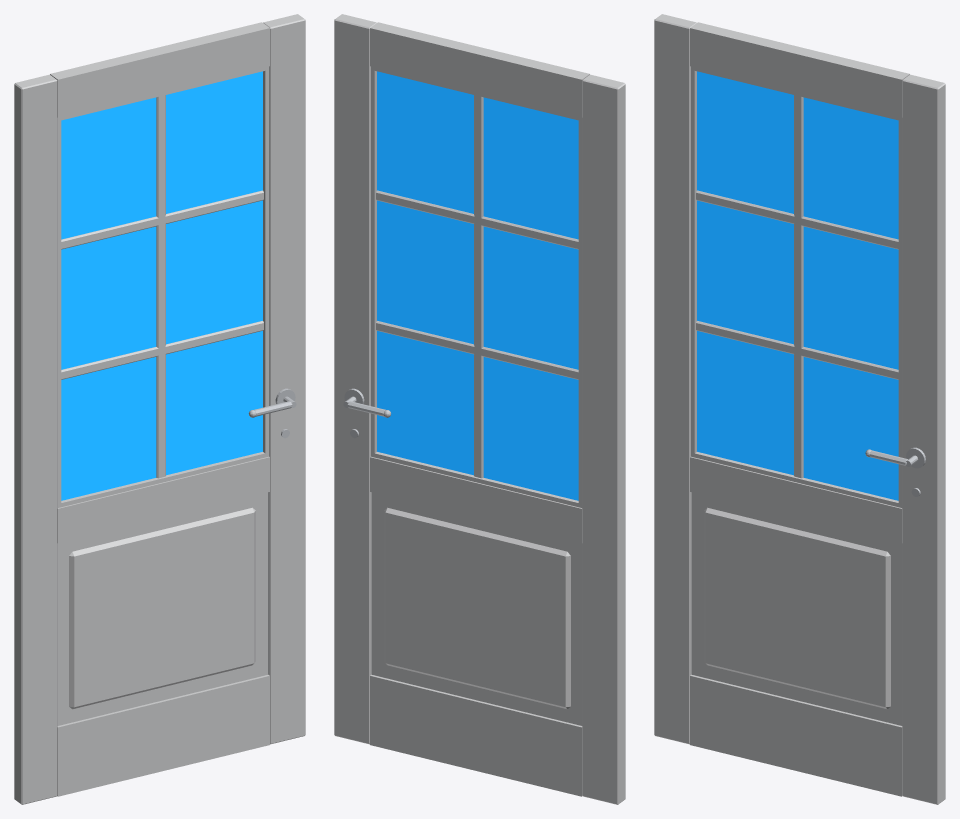
The model's file is porta_vidro_6_branca.glb.
3 views of the same model, side by side, from view 1: azimuth 30°, elevation 25°; view 2: azimuth 150°, elevation 25°; view 3: azimuth 330°, elevation 25° (orthographic).
Parts seen in each view (by area): view 1: porta_vidro_6_branca; view 2: porta_vidro_6_branca; view 3: porta_vidro_6_branca.
Part boxes in pixels (box(x1,y1,x2,y2)): porta_vidro_6_branca: box(14, 14, 305, 804); porta_vidro_6_branca: box(334, 14, 625, 804); porta_vidro_6_branca: box(654, 14, 945, 804).
Size of the model in its own units: 0.86 by 2.07 by 0.143.
